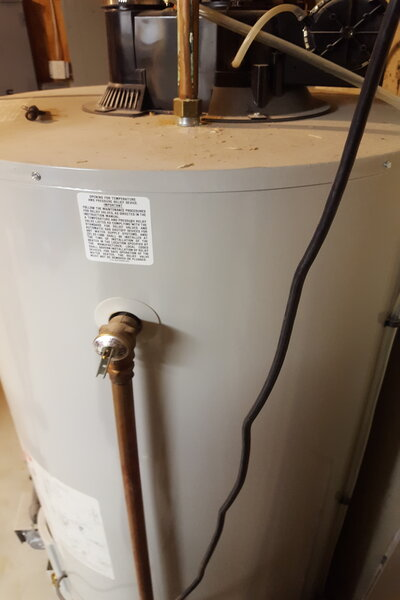valve: (92, 312, 143, 384)
